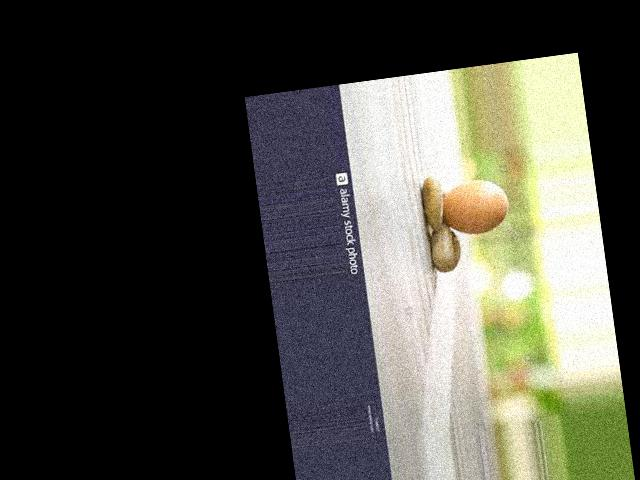egg: (439, 175, 510, 238)
